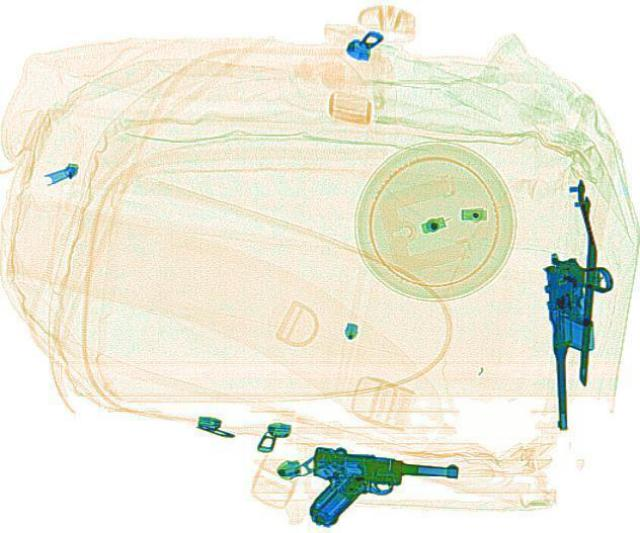Gun: (540, 251, 618, 428), (301, 445, 457, 531)
